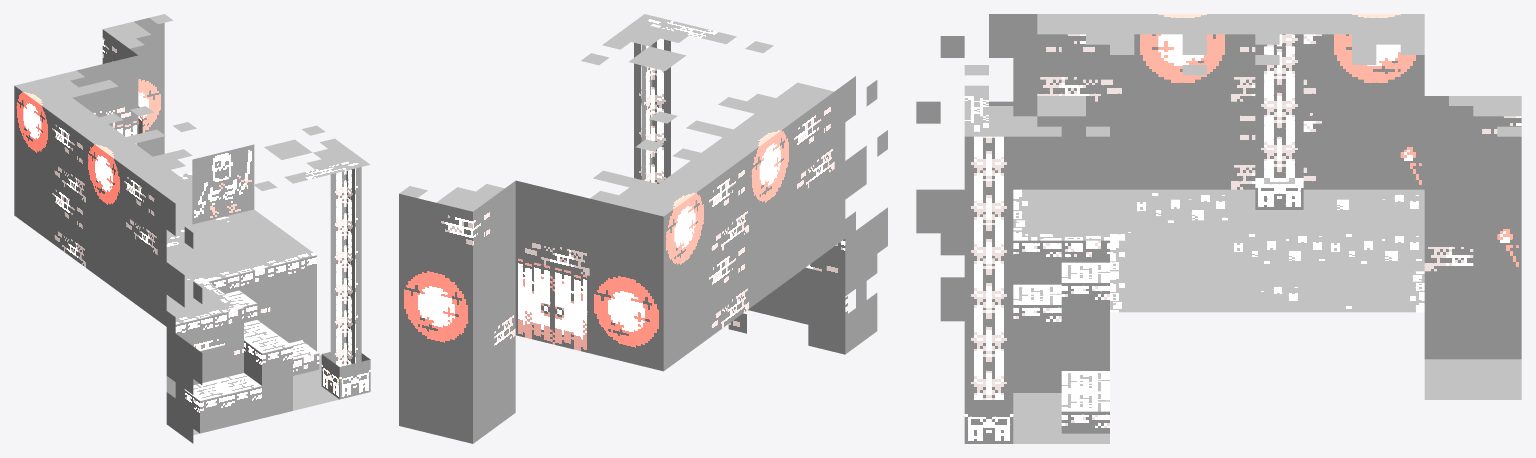
The model's file is Dungeon.glb.
The picture shows the model from 3 angles, left to right: view 1: azimuth 30°, elevation 25°; view 2: azimuth 150°, elevation 25°; view 3: azimuth 270°, elevation 25°; orthographic projection. The views are drawn at different scales.
Visible parts, largest first — view 1: Cube; view 2: Cube; view 3: Cube.
Boxes of the visible parts, box(x1,y1,x2,y2) form: Cube: box(14, 14, 370, 443); Cube: box(399, 14, 887, 443); Cube: box(916, 14, 1521, 443).
Size of the model in its own units: 3 by 3.5 by 6.25.
